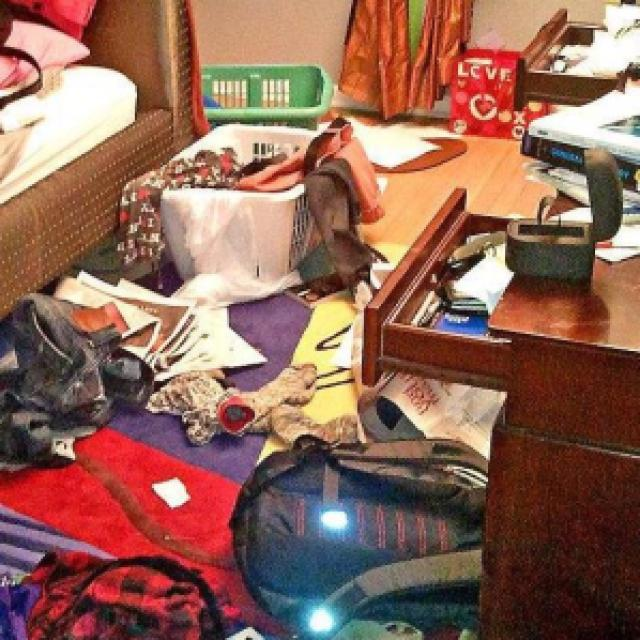mess: (0, 297, 233, 640), (221, 60, 353, 640), (384, 184, 640, 397), (0, 0, 135, 193)
